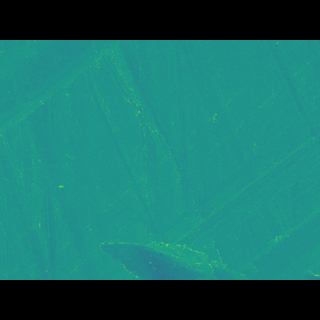Loch: (126, 121, 320, 222), (0, 71, 121, 140), (98, 219, 257, 250)
